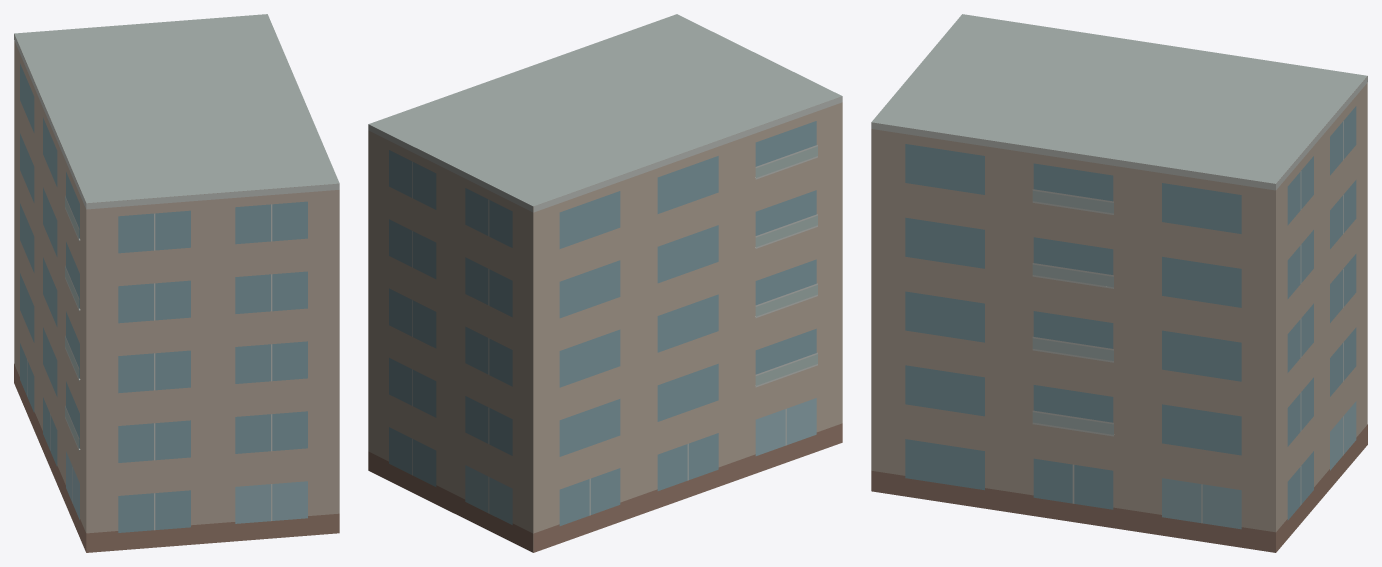
File: survey-upis-32888498.glb
3 renders of one model, left to right at view 1: azimuth 30°, elevation 25°; view 2: azimuth 150°, elevation 25°; view 3: azimuth 270°, elevation 25°, orthographic. The views are drawn at different scales.
Parts seen in each view (by area): view 1: survey-upis-32888498.tmp; view 2: survey-upis-32888498.tmp; view 3: survey-upis-32888498.tmp.
Boxes of the visible parts, x1=… form: survey-upis-32888498.tmp: x1=14, y1=14, x2=339, y2=552; survey-upis-32888498.tmp: x1=368, y1=14, x2=842, y2=552; survey-upis-32888498.tmp: x1=871, y1=14, x2=1367, y2=552.
Size of the model in its own units: 13.54 by 13.7 by 16.72.
